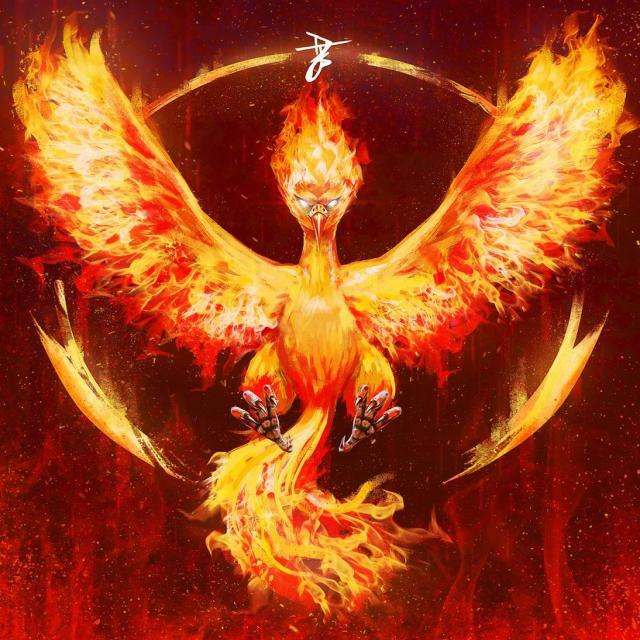Moltres: (164, 76, 472, 435)
